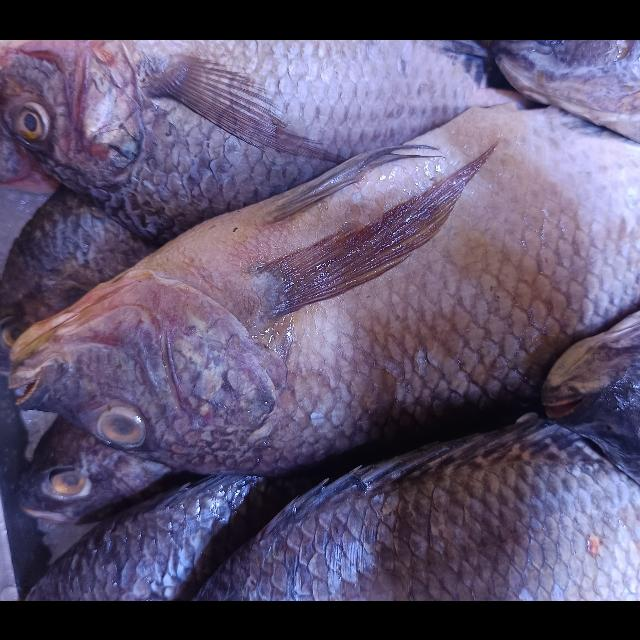Tilapia: (9, 102, 640, 474), (1, 39, 499, 248)
